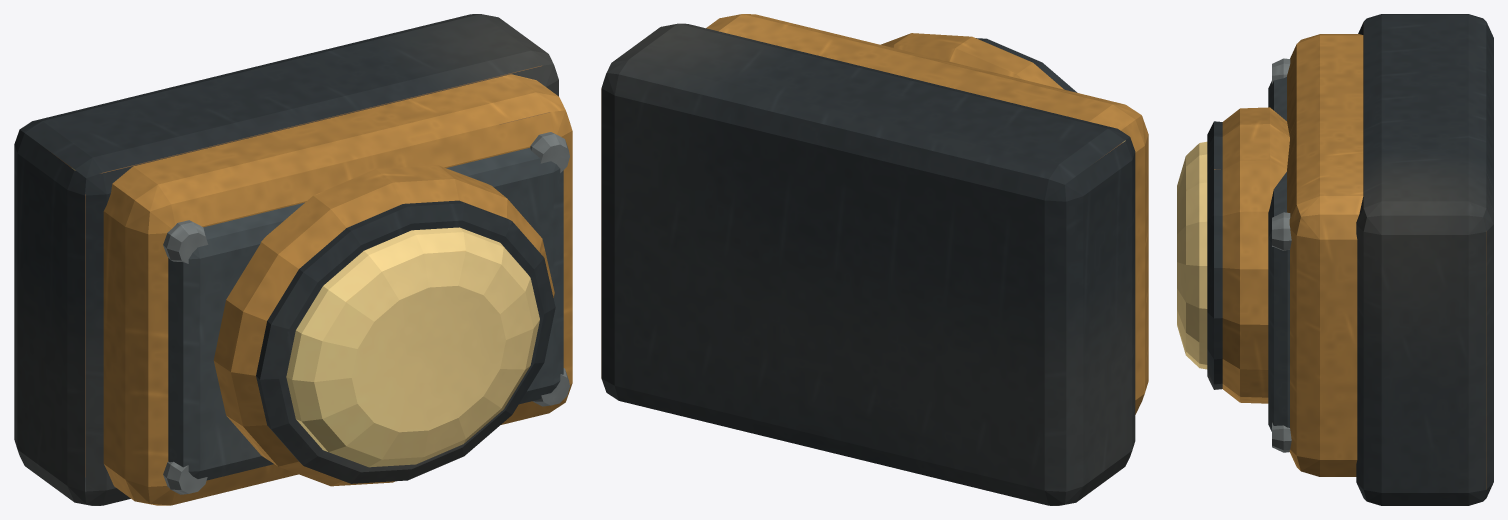
The model's file is 03_Lampe.fbx.
3 views of the same model, side by side, from view 1: azimuth 30°, elevation 25°; view 2: azimuth 150°, elevation 25°; view 3: azimuth 270°, elevation 25° (orthographic). The views are drawn at different scales.
Visible parts, largest first — view 1: 03_Lampe; view 2: 03_Lampe; view 3: 03_Lampe.
Boxes of the visible parts, box(x1,y1,x2,y2) form: 03_Lampe: box(14, 14, 572, 505); 03_Lampe: box(601, 14, 1148, 505); 03_Lampe: box(1177, 14, 1493, 505).
Size of the model in its own units: 0.508 by 0.346 by 0.327.
Materials: 1 (1 with a texture image).
